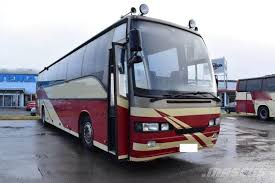bus: (36, 15, 220, 162)
